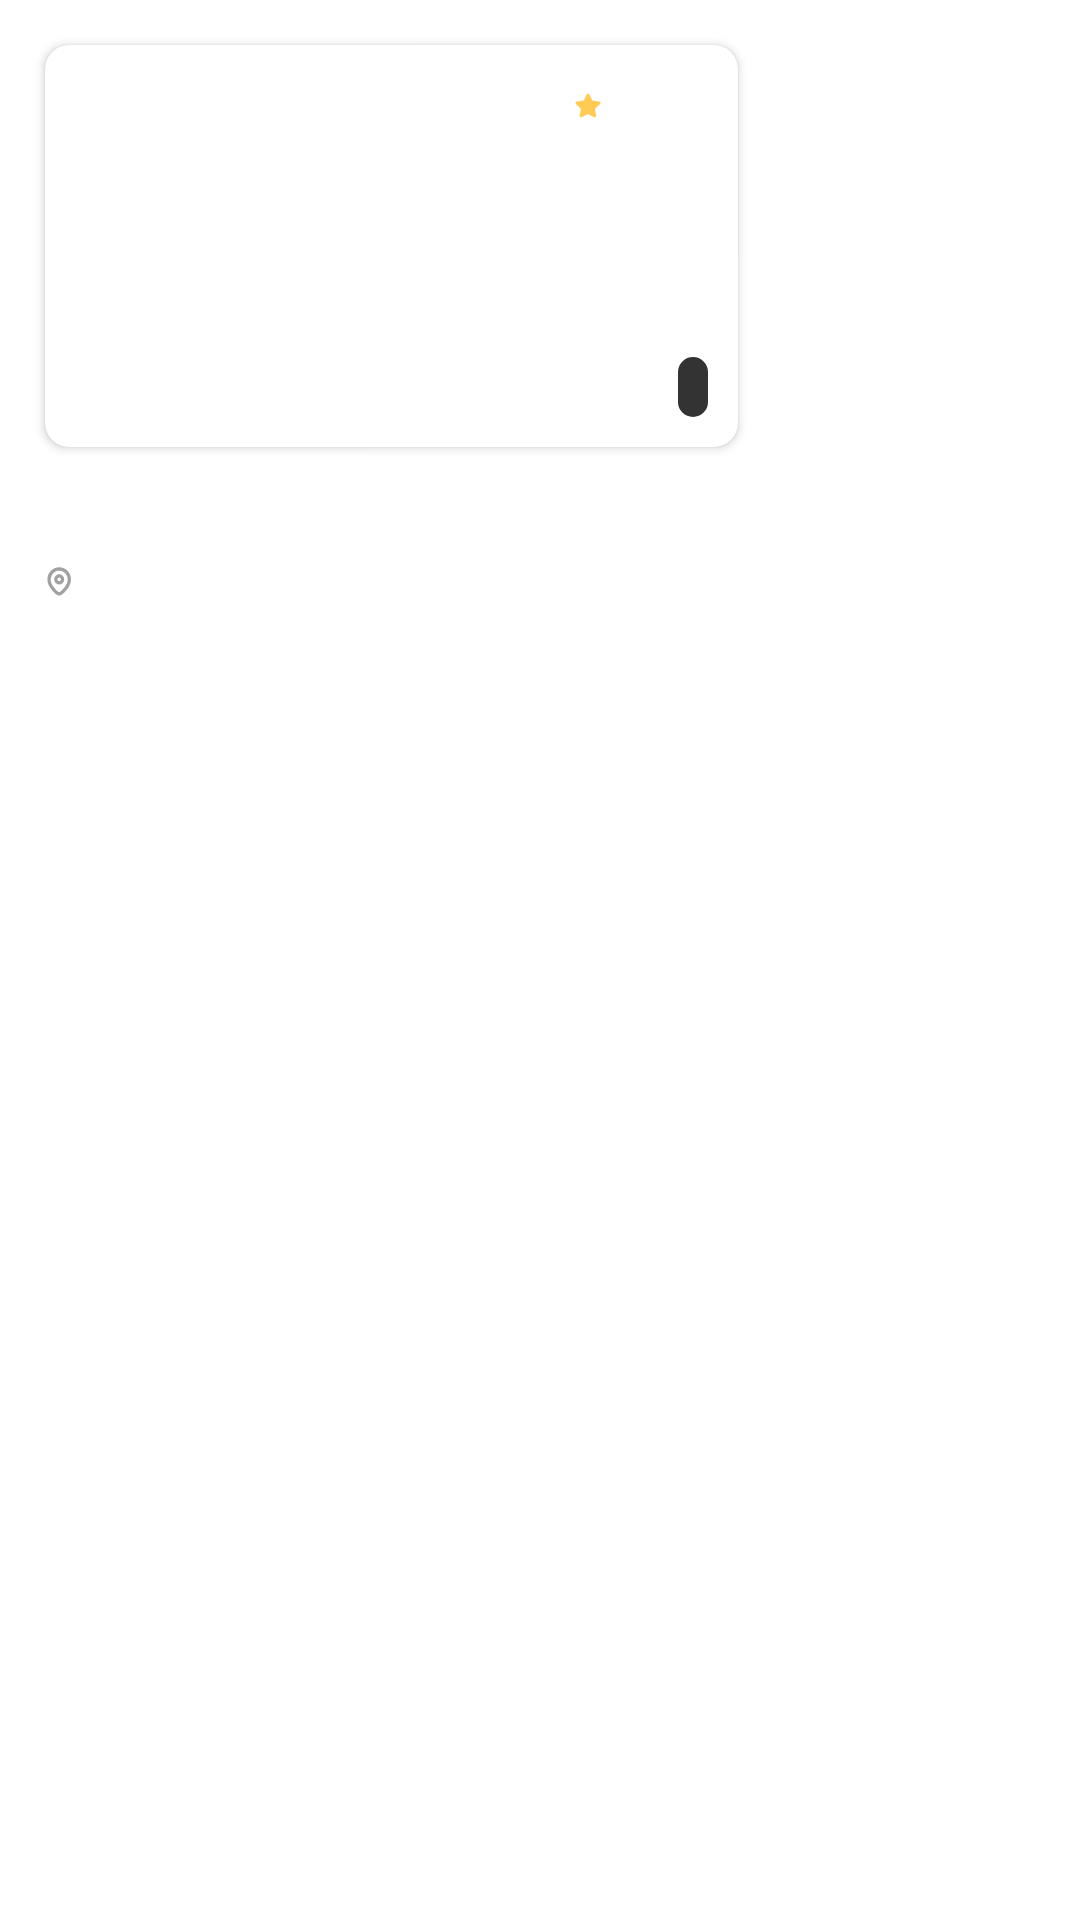

Icon bounding boxes for this 1080×1920 phone screenshot, format (x1, y1, x2, y2):
location: (47, 567, 71, 596)
star: (575, 93, 601, 118)
